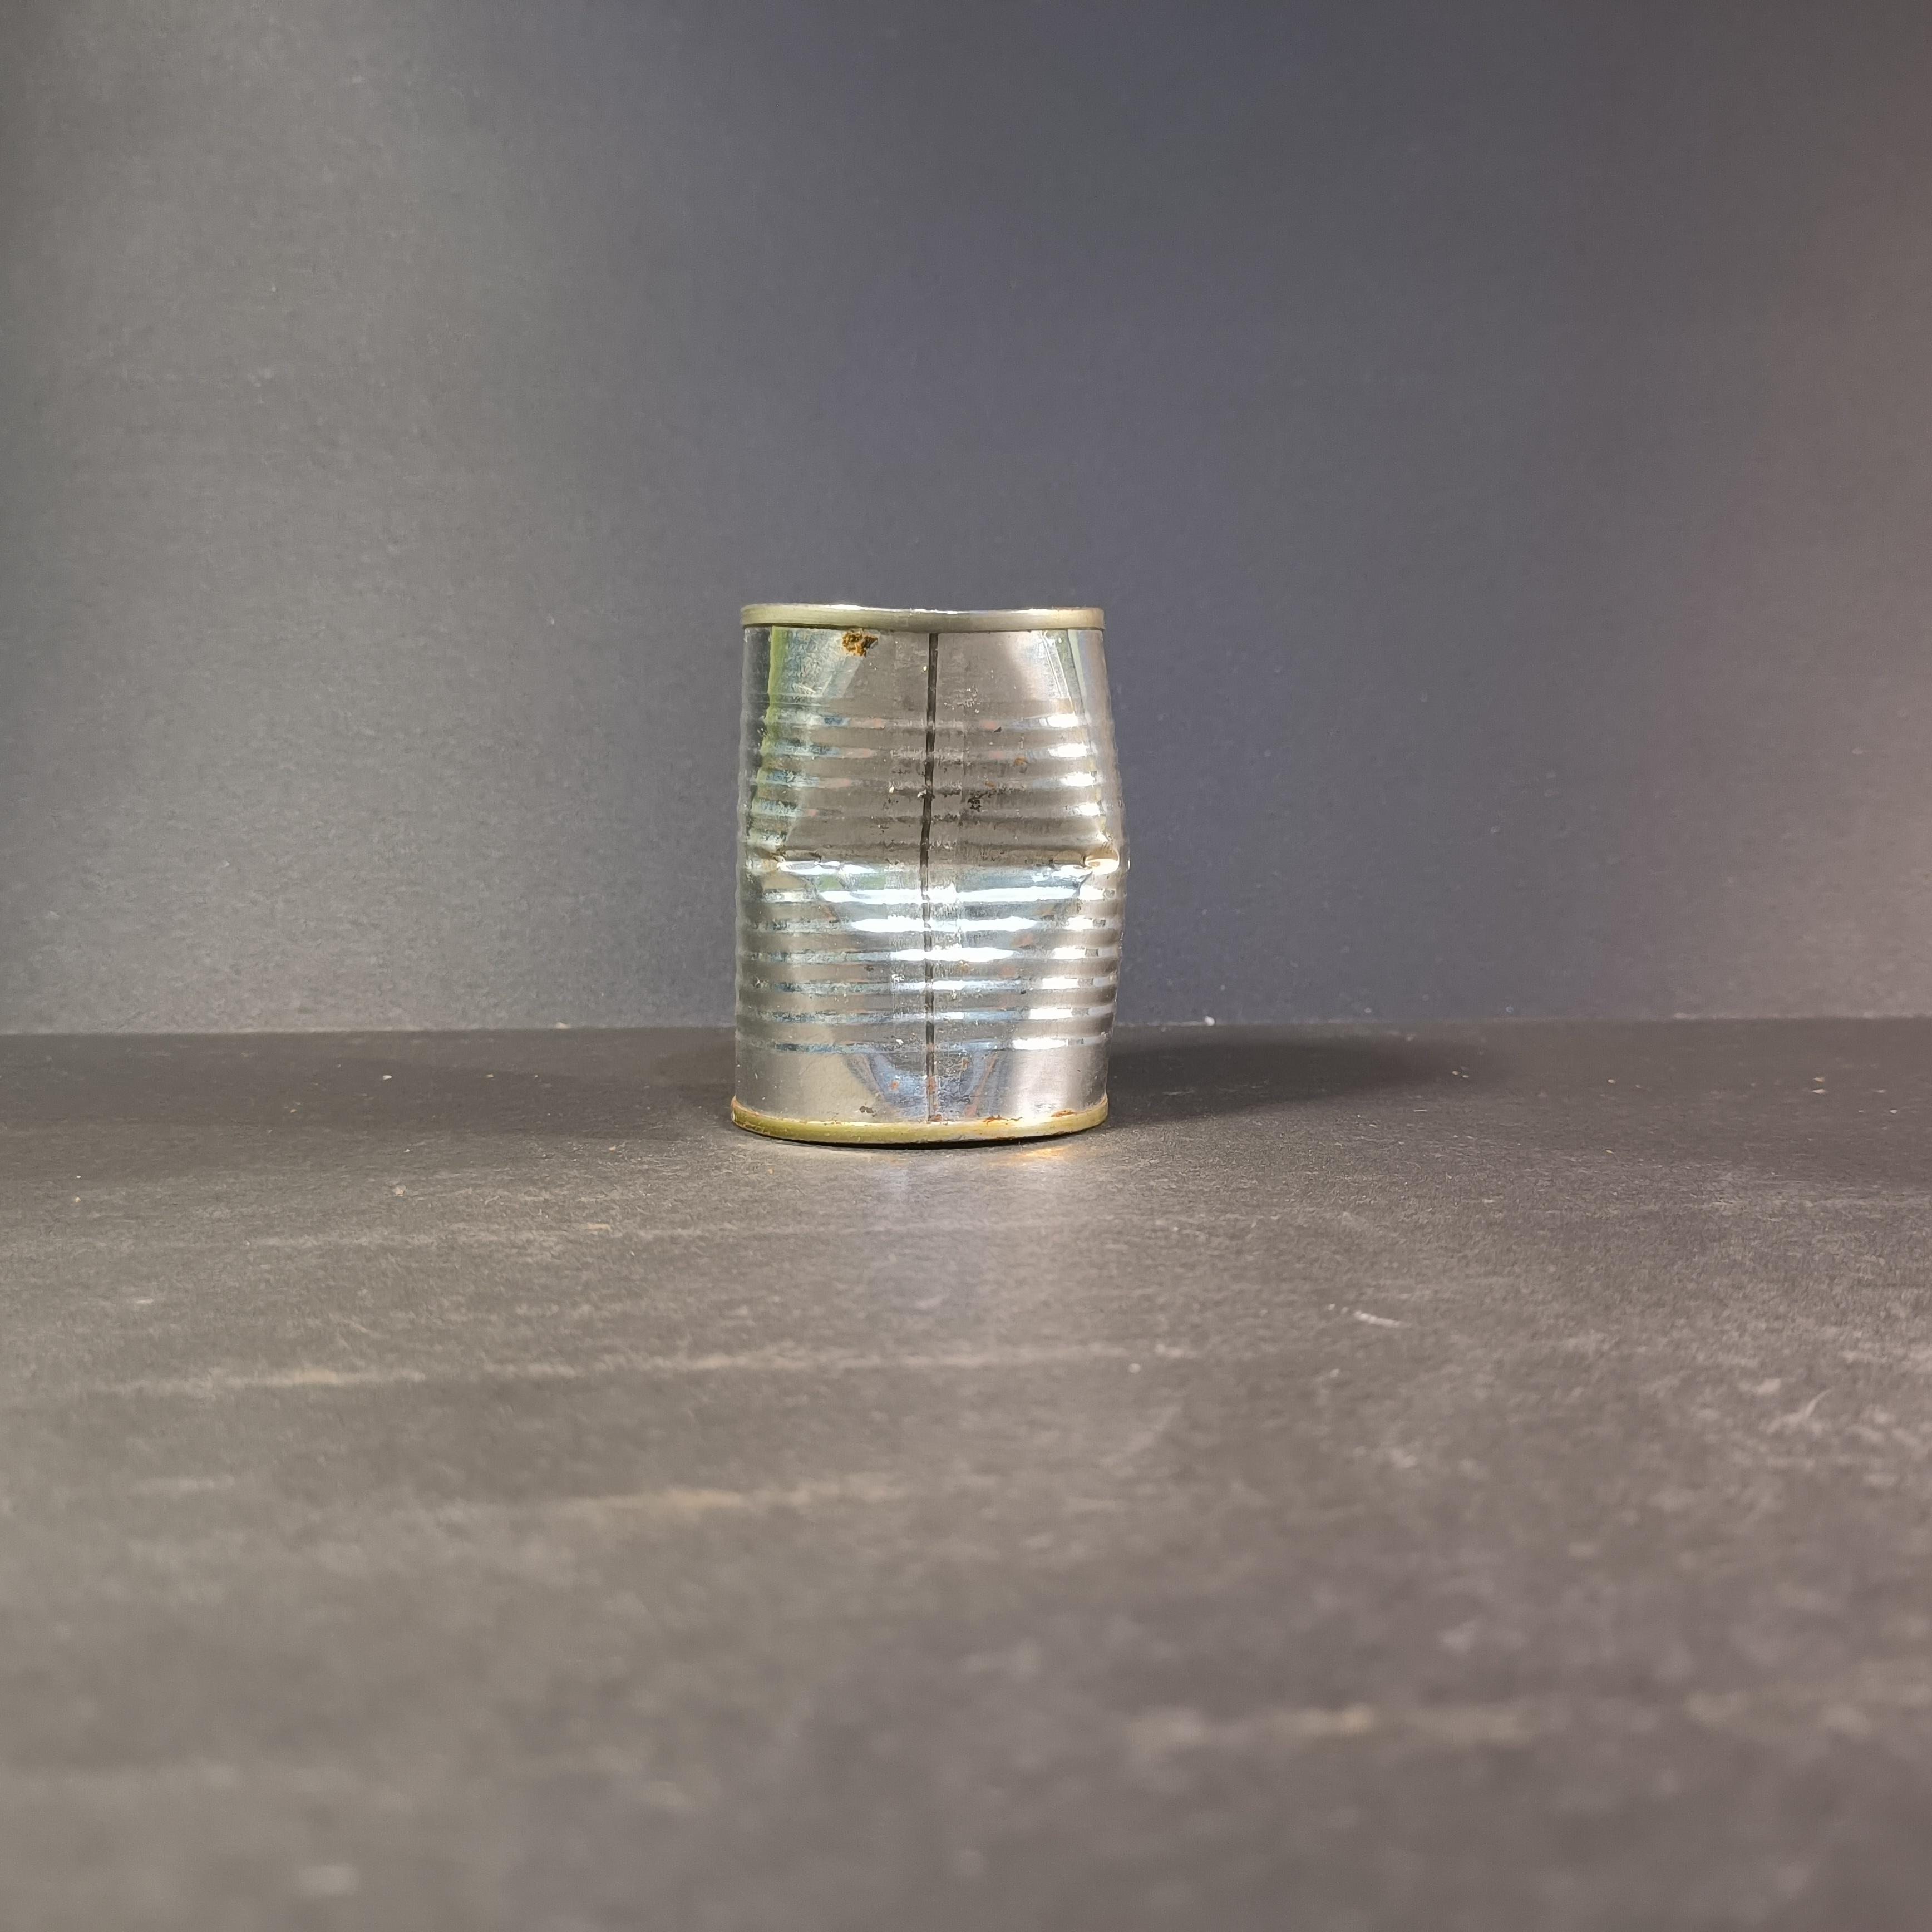Dented: (706, 563, 1138, 1171)
